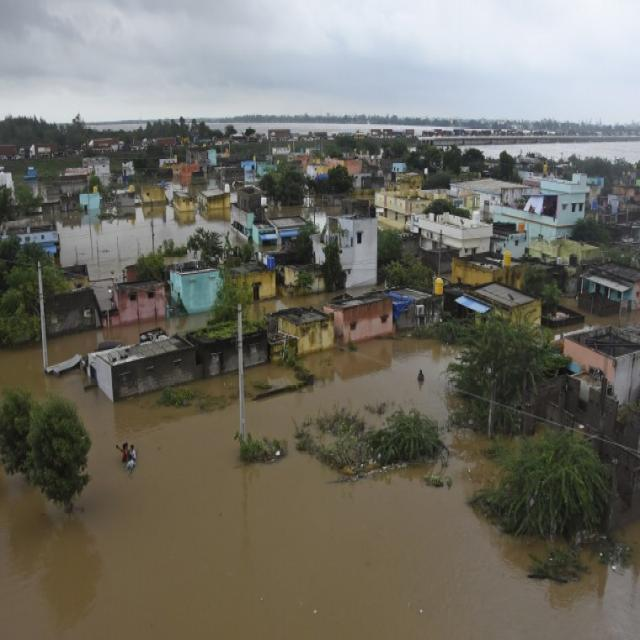flood: (0, 311, 640, 640), (58, 221, 230, 279), (468, 142, 640, 161), (210, 123, 416, 130), (86, 121, 150, 129)
house: (87, 330, 197, 400), (564, 323, 640, 400), (331, 200, 382, 286), (235, 190, 310, 248), (459, 282, 544, 331), (193, 320, 270, 374), (413, 210, 494, 261), (332, 292, 396, 349), (170, 259, 223, 316), (271, 306, 335, 352), (582, 267, 638, 319), (533, 182, 590, 225), (375, 177, 420, 231), (112, 278, 168, 321), (455, 175, 527, 207), (394, 285, 447, 326), (530, 236, 600, 267), (10, 218, 58, 252), (236, 264, 278, 298), (37, 175, 86, 201), (200, 188, 232, 210), (140, 182, 168, 204), (174, 162, 198, 186), (172, 190, 196, 213), (84, 157, 113, 176), (92, 136, 120, 153), (305, 158, 328, 178), (30, 144, 58, 160), (342, 158, 368, 175), (114, 190, 137, 208), (79, 192, 102, 210), (154, 136, 179, 150), (270, 128, 292, 142), (0, 144, 17, 160)
